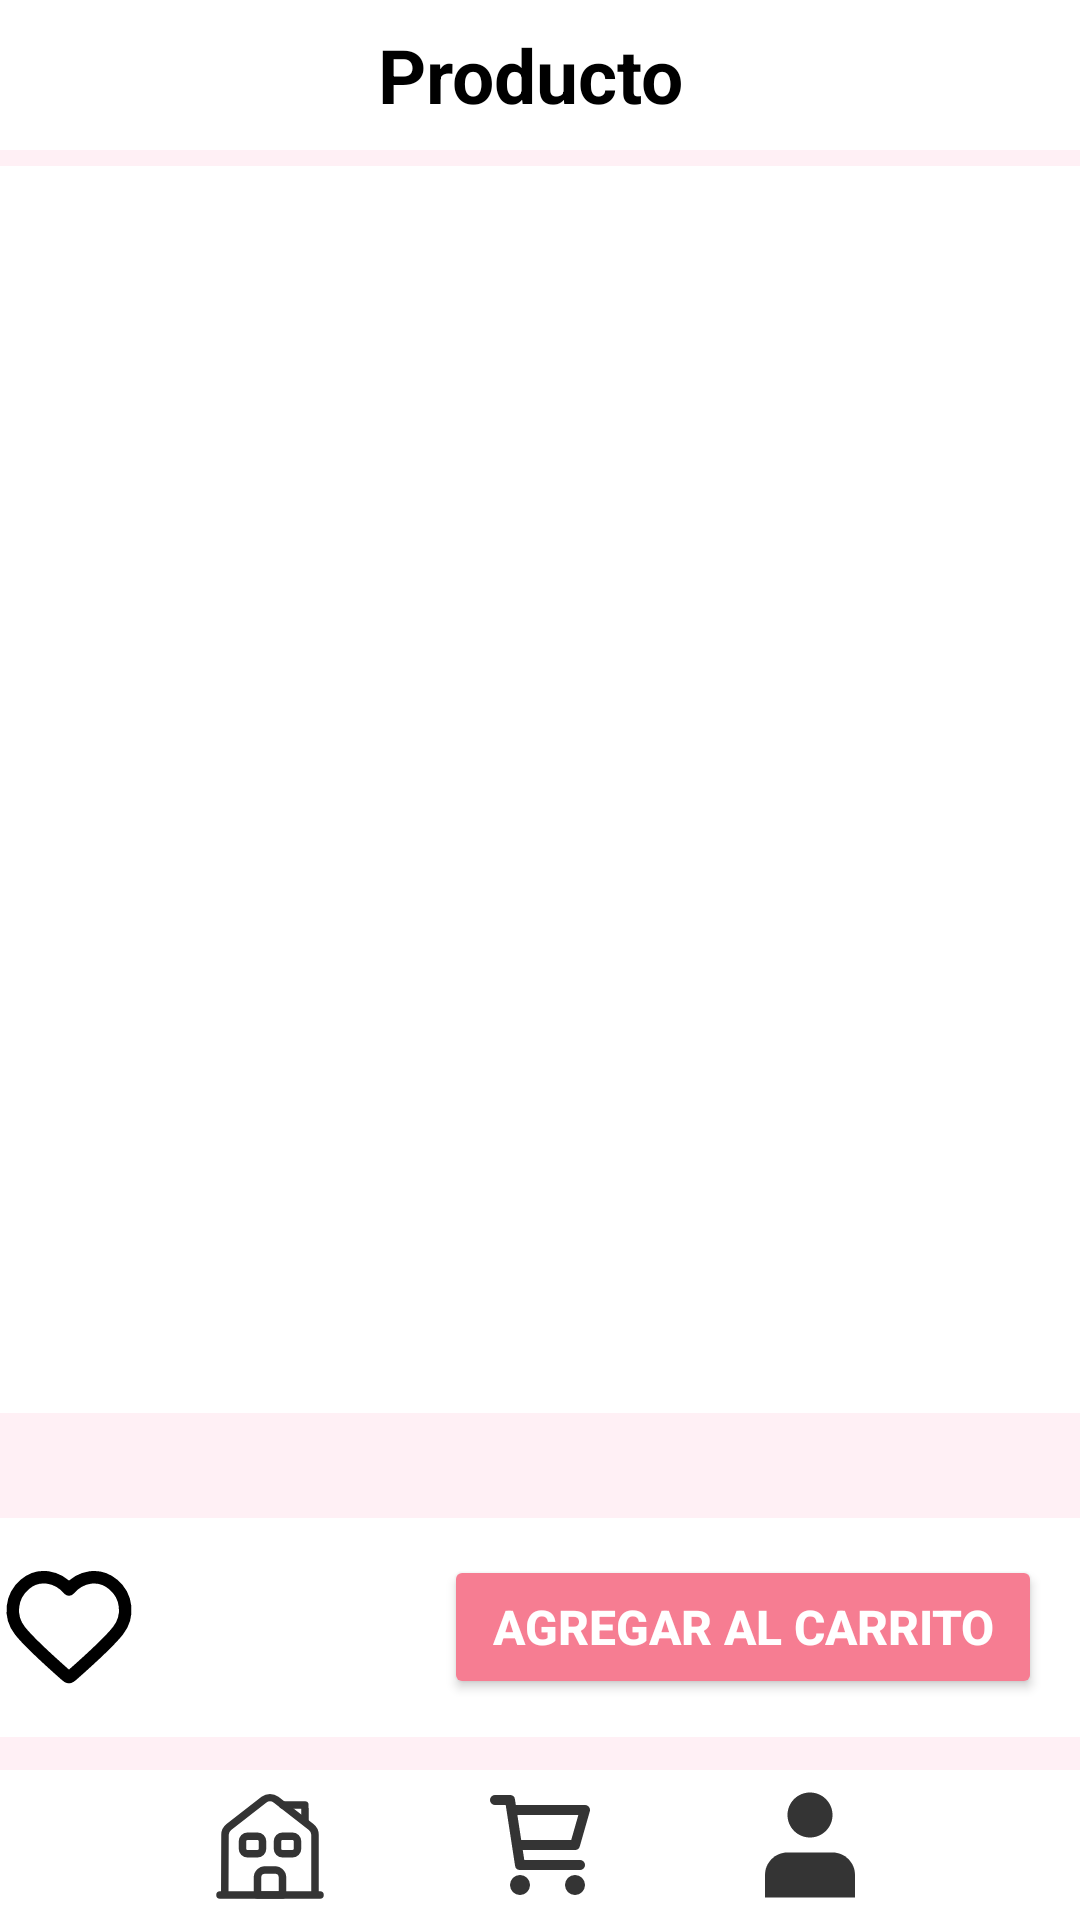

Point at icon controls on the screen. Image size 1080px x 1920px, points as (x=x, y=y).
Cart: (x=540, y=1845)
Heart: (x=69, y=1627)
Home: (x=270, y=1846)
Profile: (x=810, y=1845)
